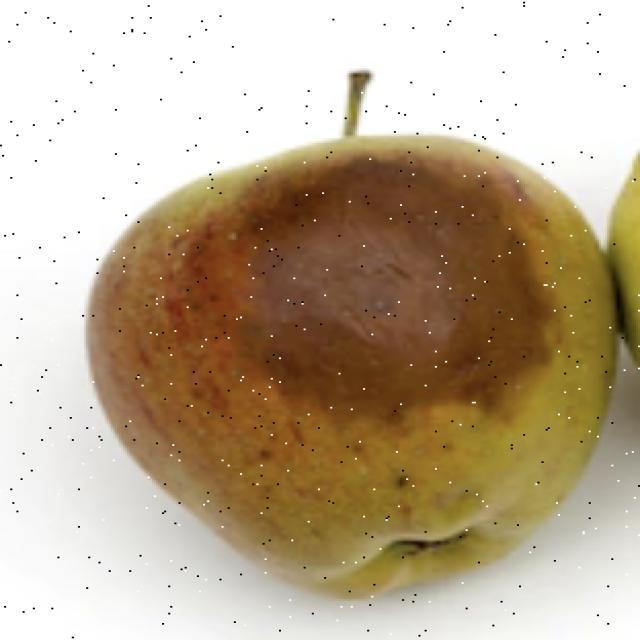Rotten: (73, 123, 635, 587)
